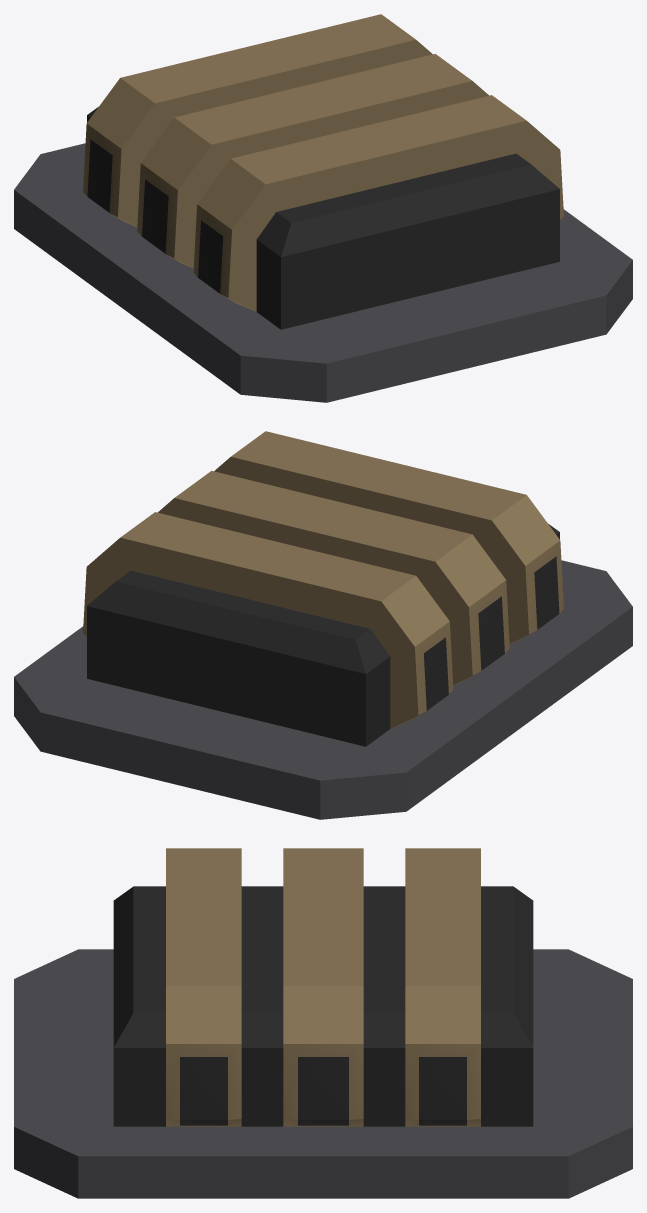
Rendered from SM_Prop_Battery_02.glb.
3 renders of one model, top to bottom at view 1: azimuth 30°, elevation 25°; view 2: azimuth 150°, elevation 25°; view 3: azimuth 270°, elevation 25°, orthographic. The views are drawn at different scales.
Parts seen in each view (by area): view 1: SM_Prop_Battery_02; view 2: SM_Prop_Battery_02; view 3: SM_Prop_Battery_02.
Part boxes in pixels (<box>): SM_Prop_Battery_02: <box>14,14,632,402</box>; SM_Prop_Battery_02: <box>14,431,632,819</box>; SM_Prop_Battery_02: <box>14,848,632,1198</box>.
Bounding box in the file's own units: 1.1 × 0.4397 × 1.38.
1 material, 1 textured.
